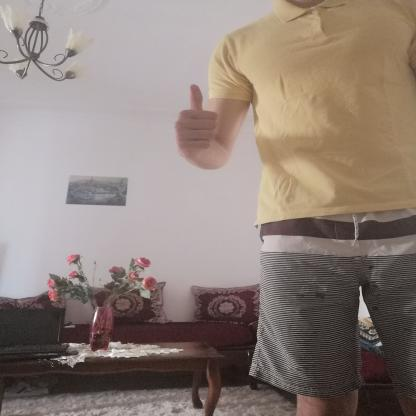ALIF: (163, 73, 228, 159)
